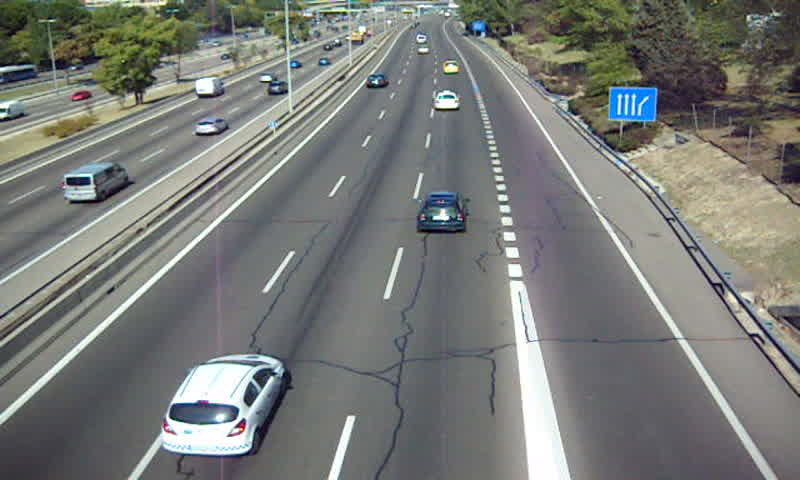car: (159, 354, 287, 457), (418, 193, 465, 231), (432, 89, 460, 110), (365, 74, 388, 88)
